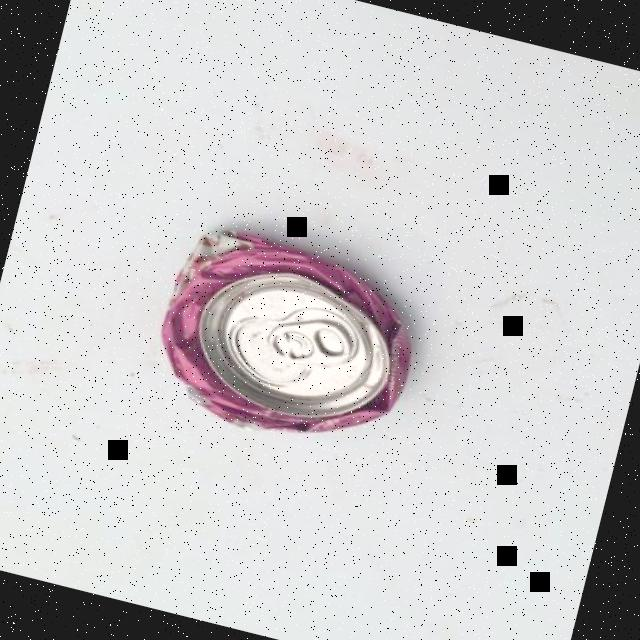can: (134, 216, 434, 464)
